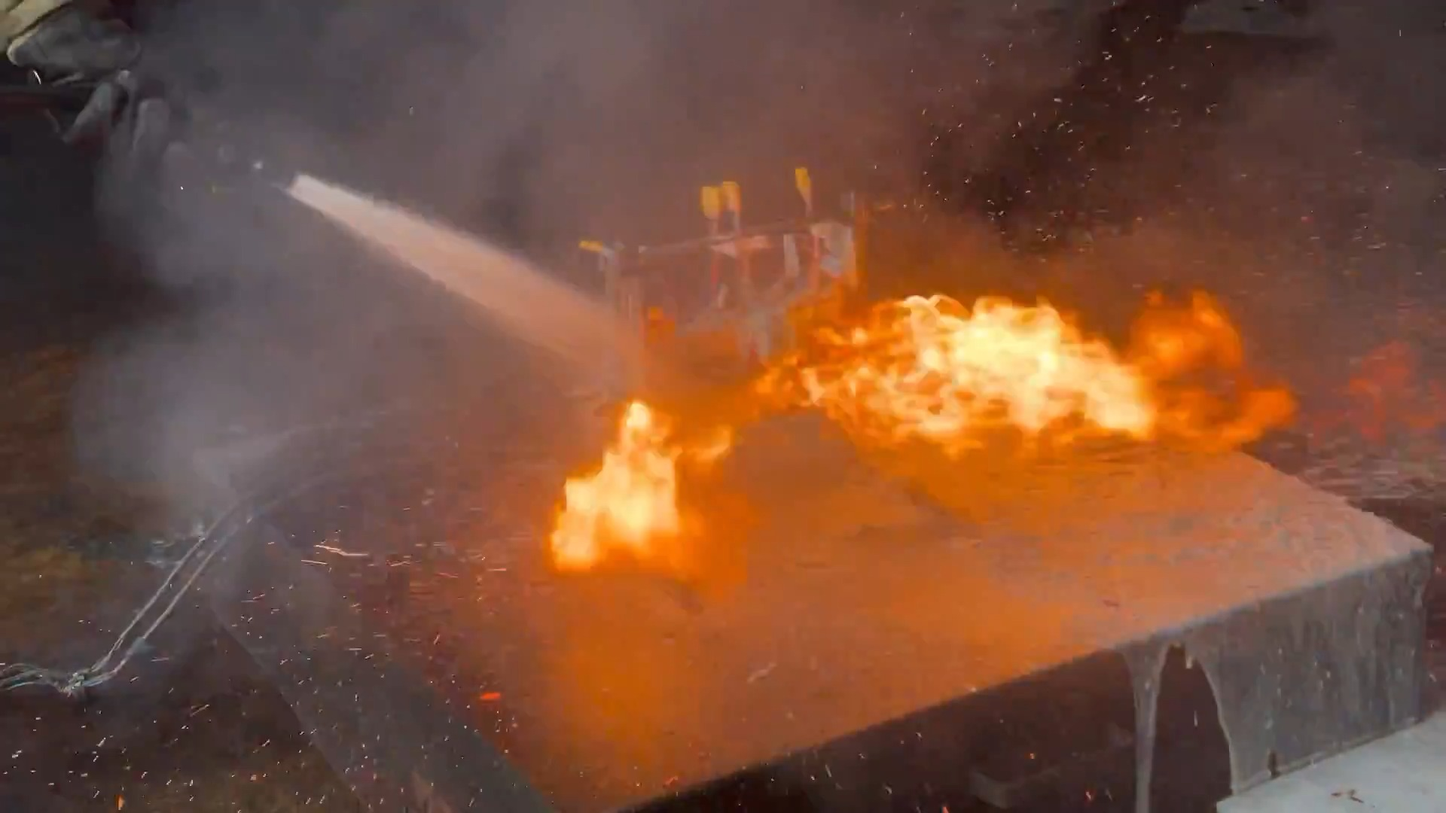fire: (749, 281, 1306, 478), (543, 390, 762, 595)
smoke: (79, 2, 1420, 534)
